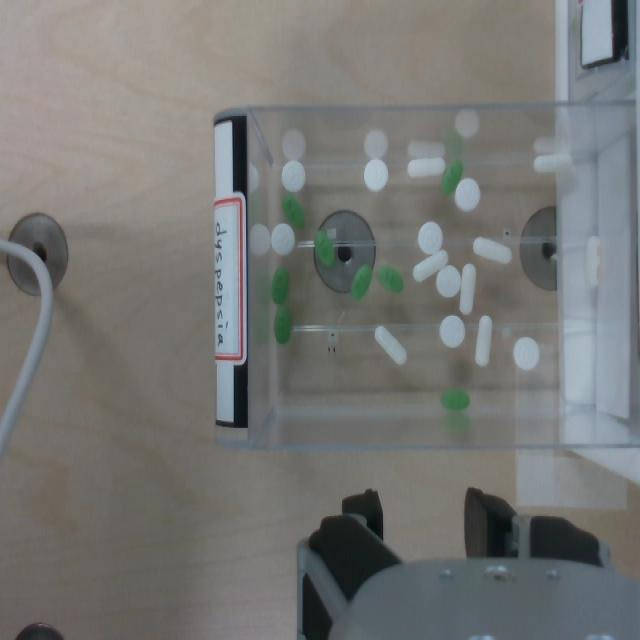magmil_tab: (454, 177, 480, 211), (513, 337, 539, 371), (418, 221, 442, 255), (363, 159, 388, 191), (439, 315, 464, 347), (281, 160, 305, 192), (436, 265, 460, 297), (271, 223, 294, 255)
medilacsenteric_tab: (374, 325, 406, 364), (413, 249, 447, 281), (473, 237, 511, 263), (459, 264, 476, 313), (475, 316, 492, 365), (586, 236, 602, 287), (533, 152, 572, 172), (407, 157, 444, 177)
nexilen_tab: (282, 193, 304, 229), (441, 160, 463, 195), (314, 229, 335, 265), (377, 264, 403, 292), (351, 264, 371, 299), (274, 305, 291, 344), (441, 389, 469, 411), (272, 268, 289, 304)
